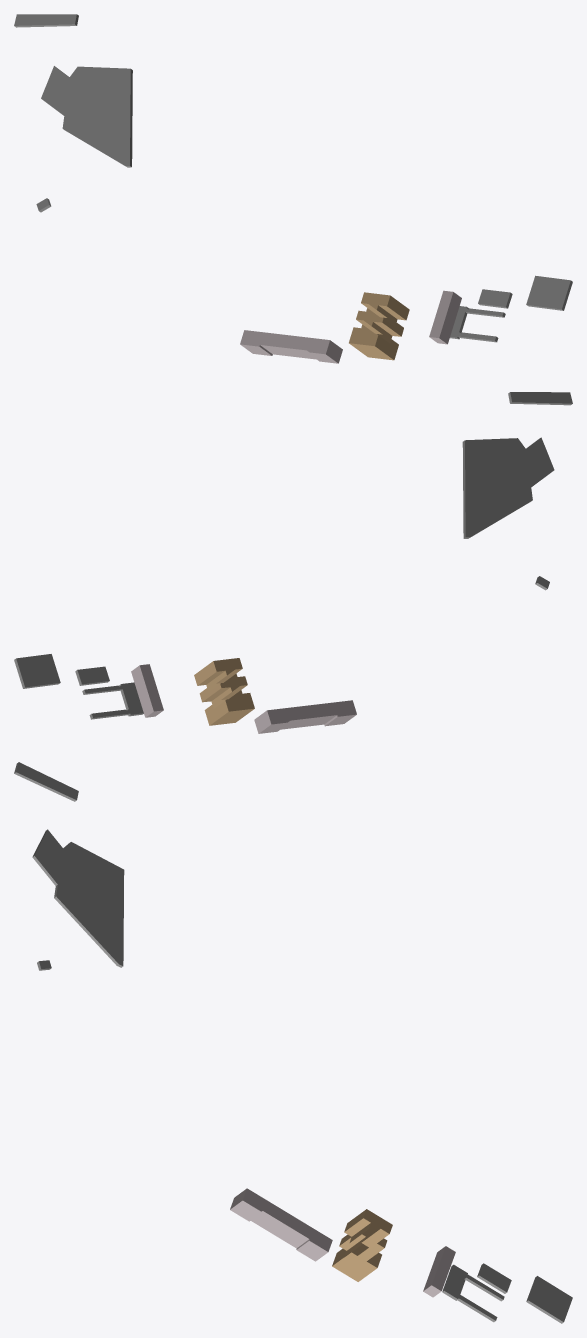
3 views of the same model, one above another, from view 1: azimuth 30°, elevation 25°; view 2: azimuth 150°, elevation 25°; view 3: azimuth 330°, elevation 25° (orthographic).
Visible parts, largest first — view 1: 0_3_1_3_3; view 2: 0_3_1_3_3; view 3: 0_3_1_3_3.
Part boxes in pixels (x1,y1,x2,y2): 0_3_1_3_3: [14, 14, 572, 363]; 0_3_1_3_3: [14, 392, 572, 733]; 0_3_1_3_3: [14, 762, 572, 1323].
Size of the model in its own units: 448 by 340 by 27.
